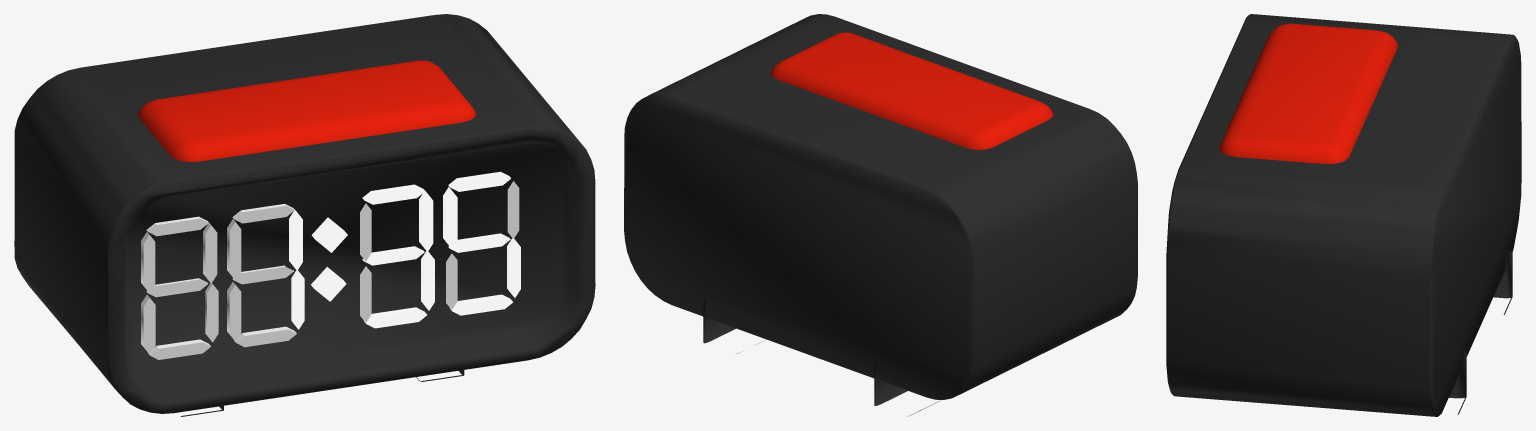
Rendered from render_clock-transformed.glb.
The picture shows the model from 3 angles, left to right: view 1: azimuth 30°, elevation 25°; view 2: azimuth 150°, elevation 25°; view 3: azimuth 270°, elevation 25°; orthographic projection. The views are drawn at different scales.
Visible parts, largest first — view 1: bedsideClock; view 2: bedsideClock; view 3: bedsideClock.
Boxes of the visible parts, <box> form: bedsideClock: <box>14,14,595,416</box>; bedsideClock: <box>624,14,1137,416</box>; bedsideClock: <box>1166,14,1521,416</box>.
Size of the model in its own units: 0.3463 by 0.1876 by 0.2315.
